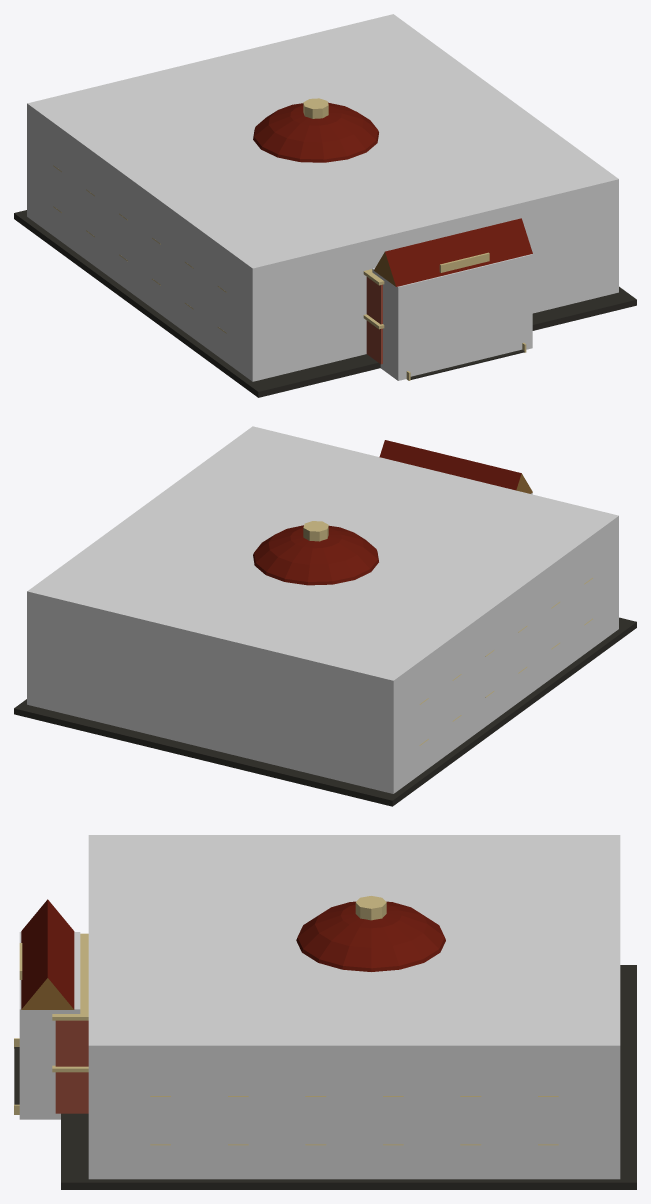
Rendered from B35_museum_heritage.glb.
3 renders of one model, top to bottom at view 1: azimuth 30°, elevation 25°; view 2: azimuth 150°, elevation 25°; view 3: azimuth 270°, elevation 25°, orthographic. The views are drawn at different scales.
Visible parts, largest first — view 1: COL_Main, LOD0, COL_Verandah; view 2: COL_Main, LOD0; view 3: COL_Main, LOD0, COL_Verandah.
Boxes of the visible parts, x1,y1,x2,y2 form: COL_Main: [27, 14, 618, 381]; LOD0: [14, 98, 636, 397]; COL_Verandah: [372, 254, 532, 380]; COL_Main: [27, 426, 618, 793]; LOD0: [14, 440, 636, 806]; COL_Main: [88, 835, 620, 1179]; LOD0: [14, 896, 636, 1189]; COL_Verandah: [19, 932, 80, 1119].
Size of what is drawn, in the model's own units: 46.5 by 17.85 by 56.25.
